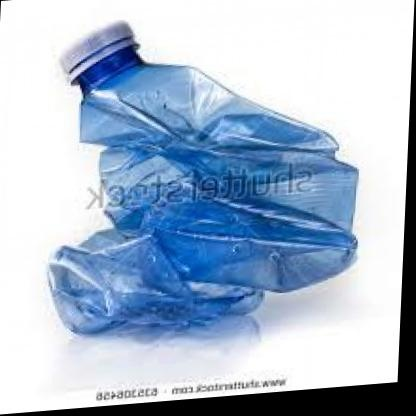trash: (49, 22, 357, 333)
